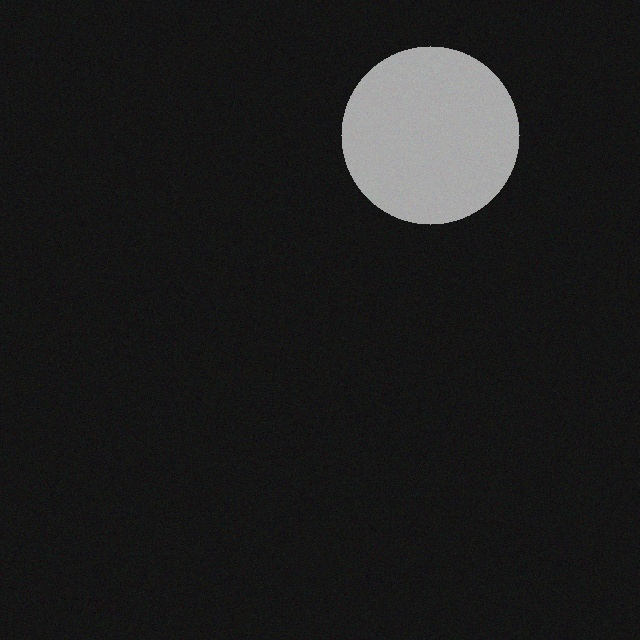circle: (342, 47, 520, 225)
